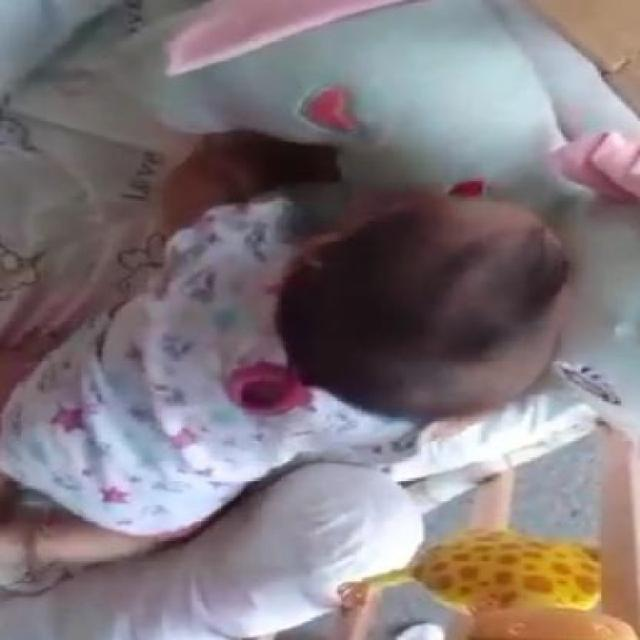baby: (0, 129, 578, 575)
